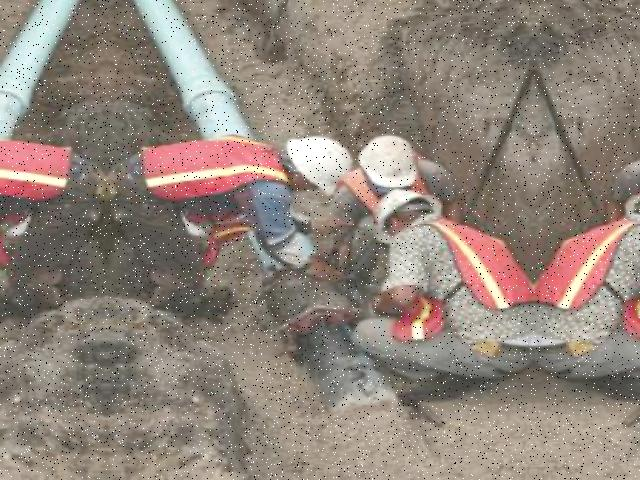Helmet: (280, 131, 358, 197), (368, 185, 446, 240), (358, 132, 424, 193)
